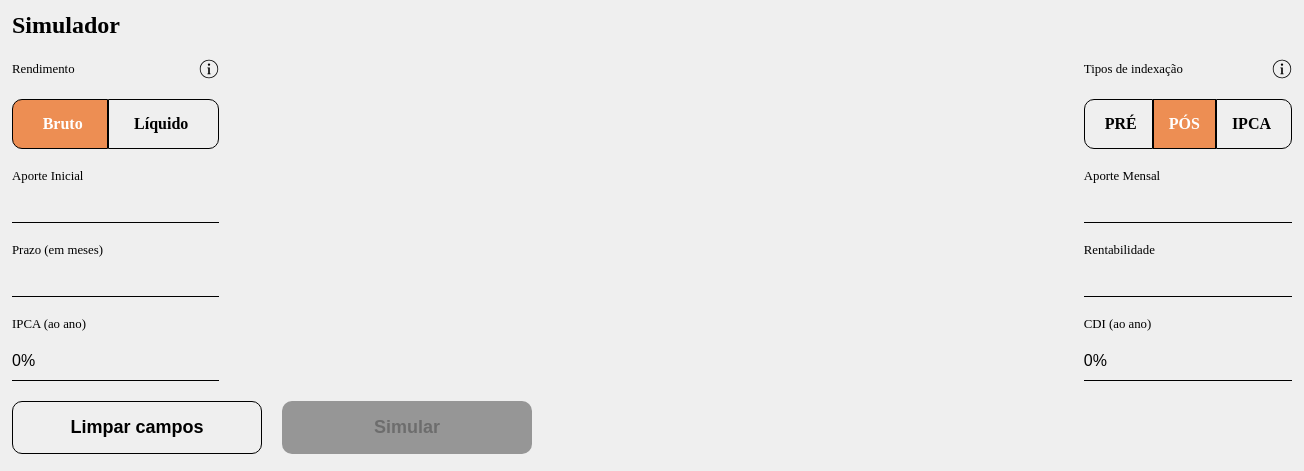
Test: Simulator component › resets input
The width and height of the screenshot is (1304, 471).
Type "teste" into the field named "Aporte Inicial" at (116, 208), box [12,194,219,223]
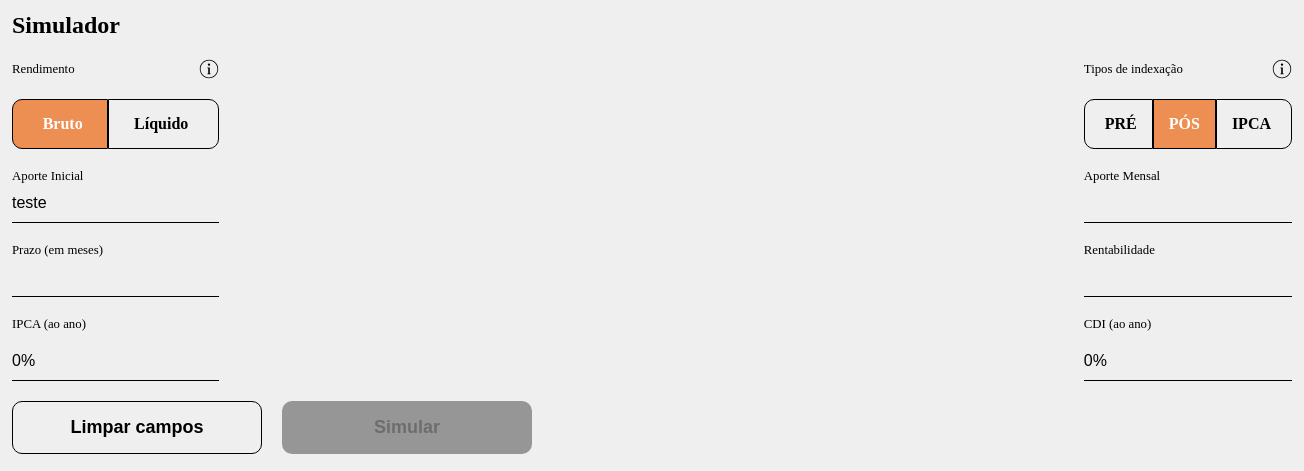
Click the button "Limpar campos" at (137, 428), box [12,401,262,454]
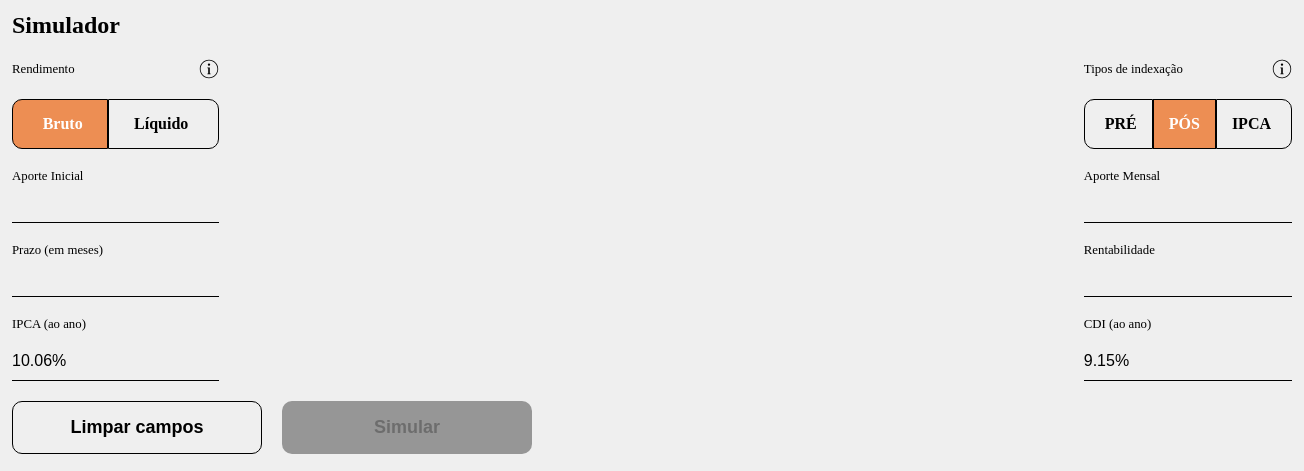
Expected: the field named "Aporte Inicial" is empty, [12,194,219,223]
